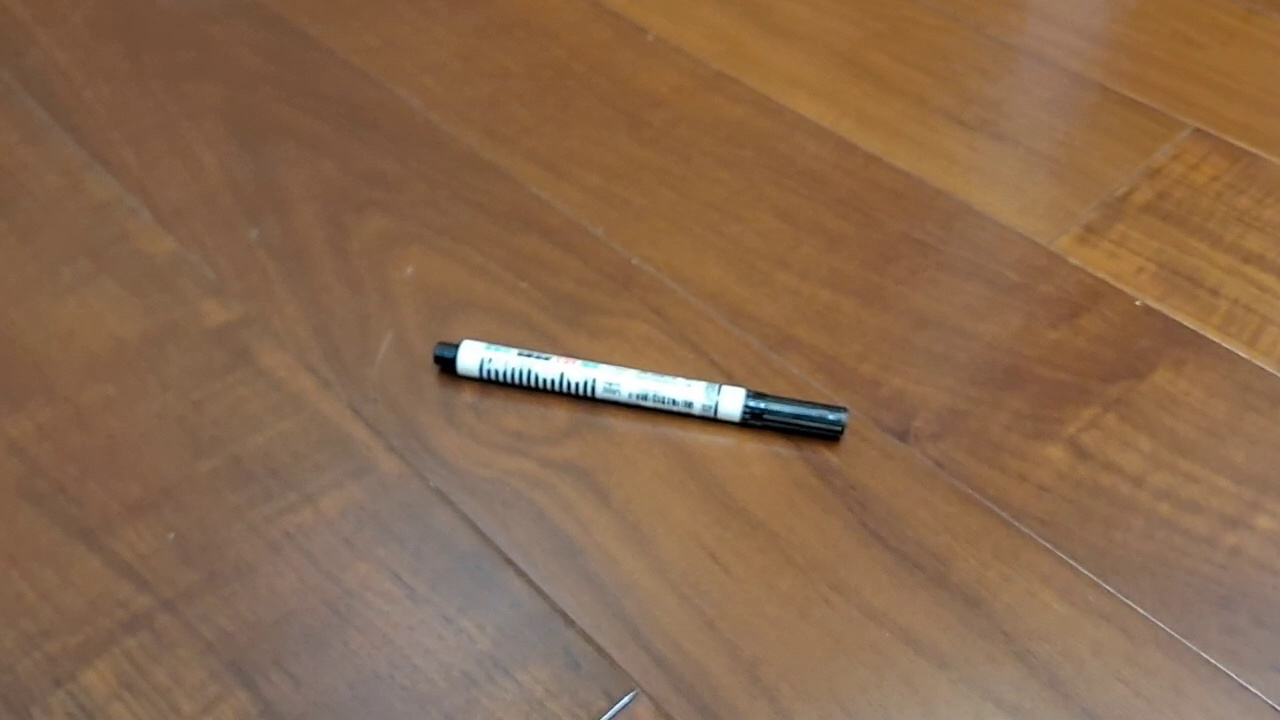pen: (432, 338, 850, 442)
